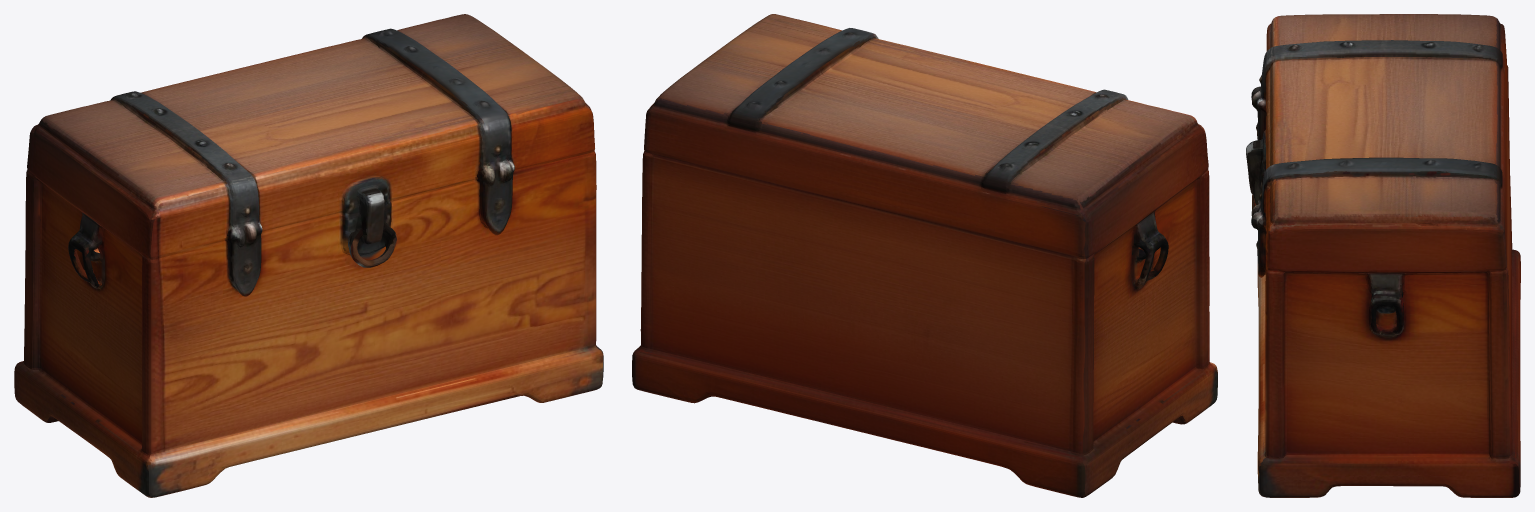
File: traveler_env_coast_castle_lacquer_supply_chest_00001_.glb
3 renders of one model, left to right at view 1: azimuth 30°, elevation 25°; view 2: azimuth 150°, elevation 25°; view 3: azimuth 270°, elevation 25°, orthographic. The views are drawn at different scales.
Visible parts, largest first — view 1: temp_mesh.ply; view 2: temp_mesh.ply; view 3: temp_mesh.ply.
Boxes of the visible parts, box(x1,y1,x2,y2) form: temp_mesh.ply: box(14, 14, 603, 497); temp_mesh.ply: box(632, 14, 1217, 497); temp_mesh.ply: box(1246, 14, 1520, 497).
Bounding box in the file's own units: 1.8 × 1.1 × 0.9435.
1 material, 1 textured.
